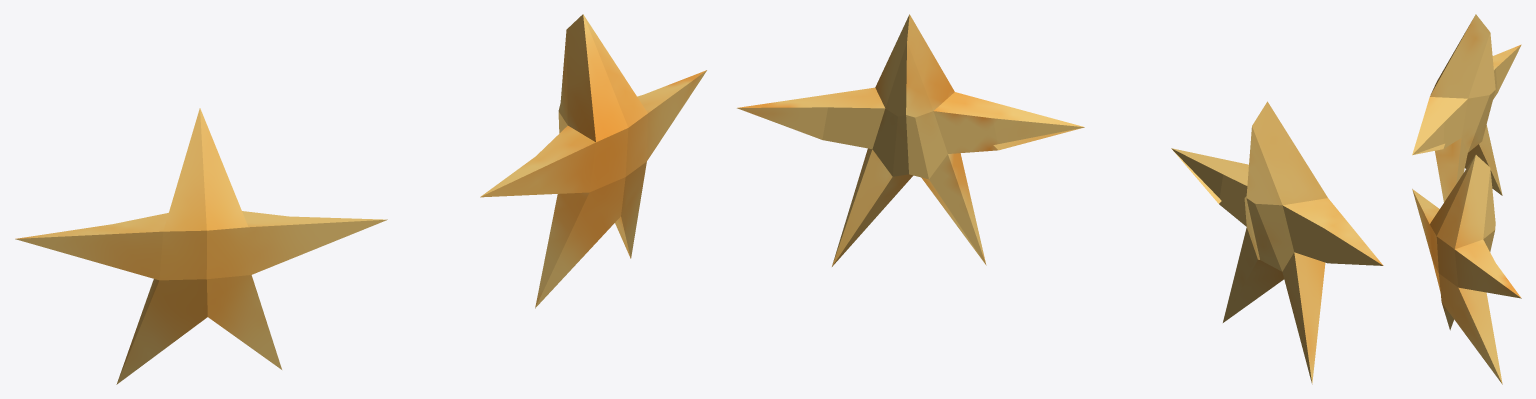
Rendered from 星星眼.fbx.
3 views of the same model, side by side, from view 1: azimuth 30°, elevation 25°; view 2: azimuth 150°, elevation 25°; view 3: azimuth 270°, elevation 25° (orthographic). The views are drawn at different scales.
Visible parts, largest first — view 1: 立方体.002; view 2: 立方体.002; view 3: 立方体.002.
Part boxes in pixels (x1=…): 立方体.002: x1=15, y1=14, x2=706, y2=384; 立方体.002: x1=737, y1=14, x2=1383, y2=384; 立方体.002: x1=1412, y1=14, x2=1521, y2=384.
Size of the model in its own units: 0.4055 by 0.1535 by 0.074.
